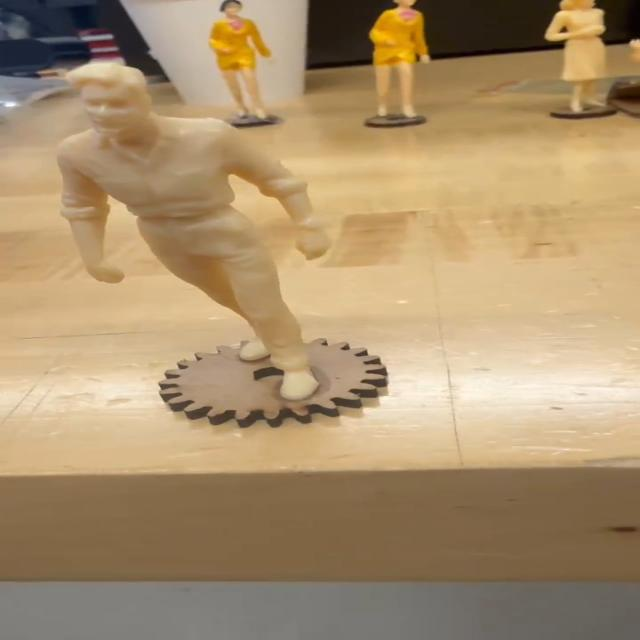Unauthorized: (27, 57, 410, 430)
